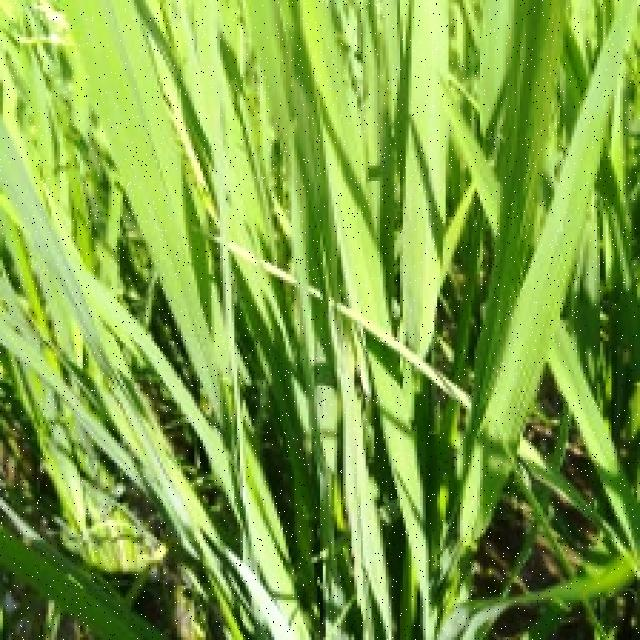health: (69, 0, 417, 267)
